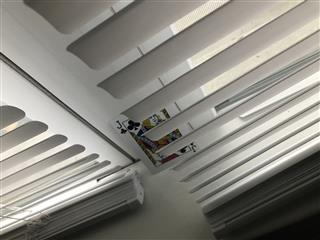JackOfClubs: (110, 104, 200, 175)
